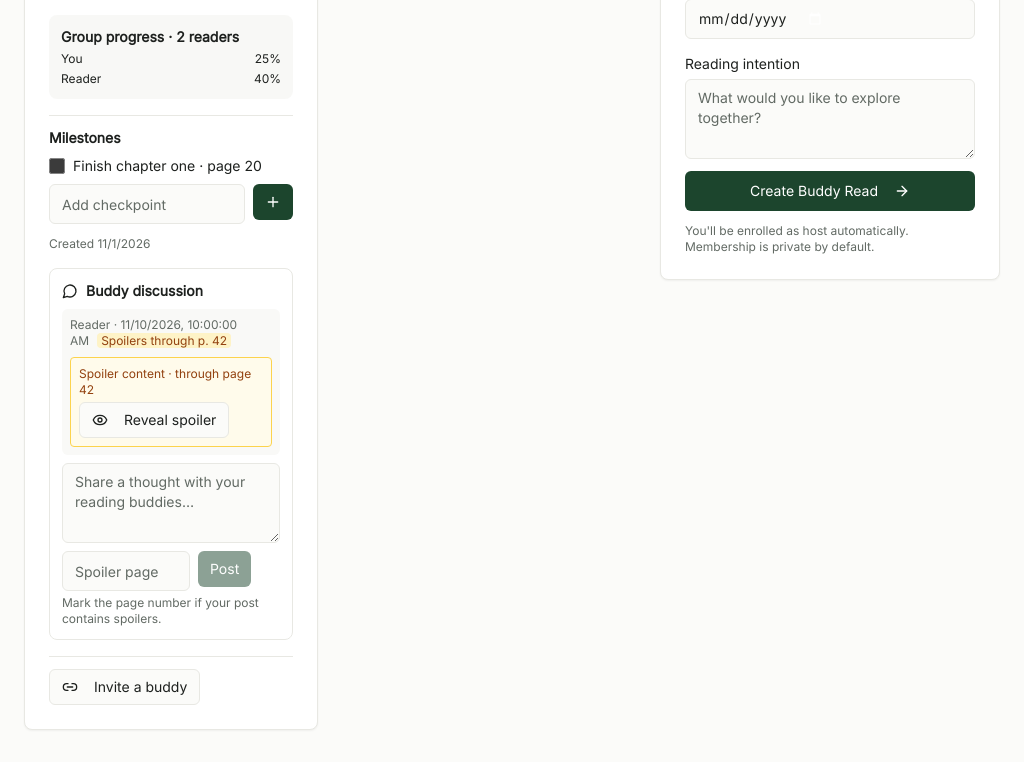
BuddyReads page › keeps spoiler text hidden until revealed and allows it to be hidden again
(page scrolled)
Check: the text "The final chapter changes everything." is not shown
Click the button "Reveal spoiler".
click(154, 420)  # box [79, 402, 229, 438]
(page scrolled)
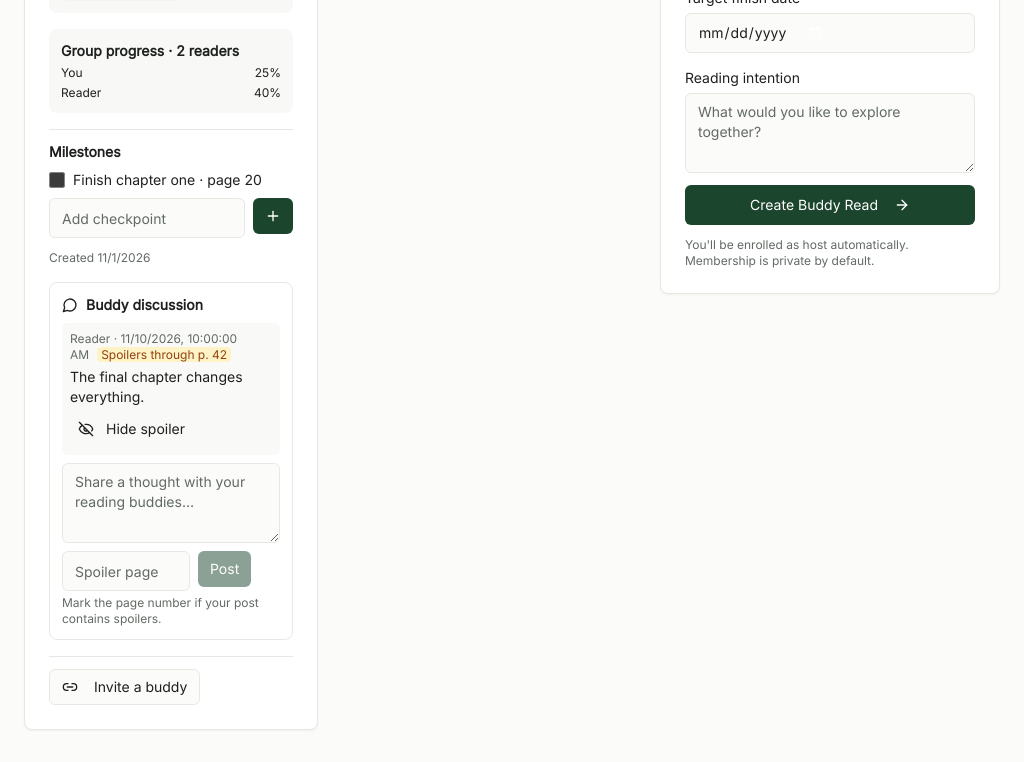
Check: the text "The final chapter changes everything." is shown, box [70, 367, 272, 407]
Click the button "Hide spoiler".
click(132, 429)  # box [70, 411, 193, 447]
(page scrolled)
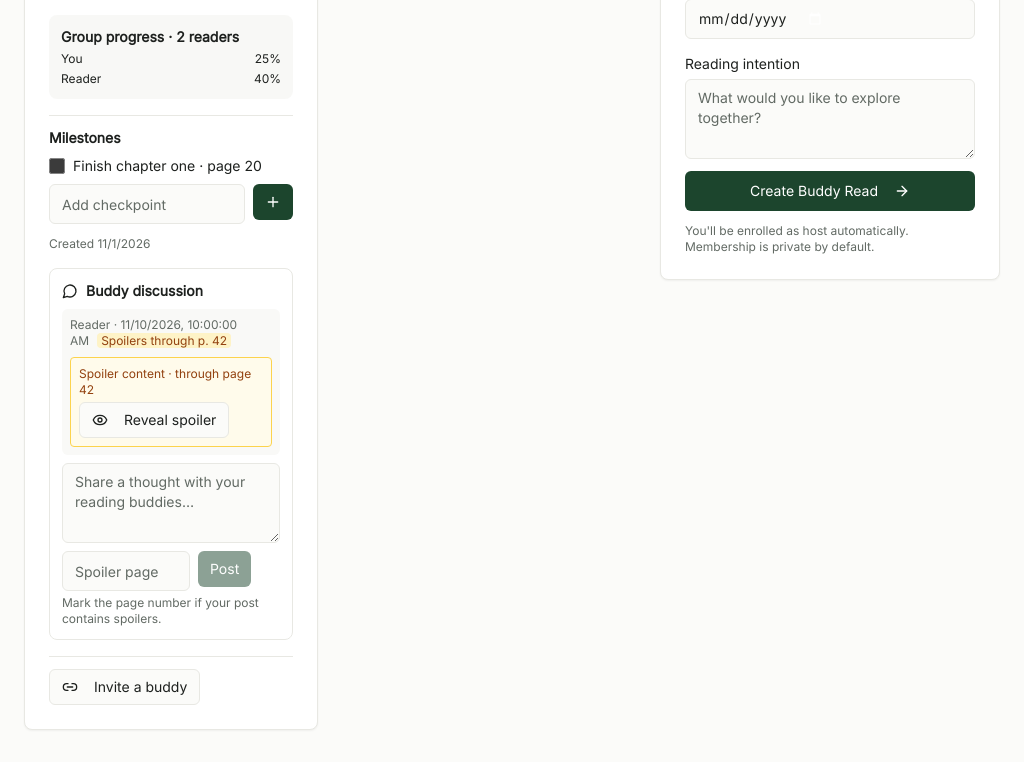
Check: the text "The final chapter changes everything." is gone
